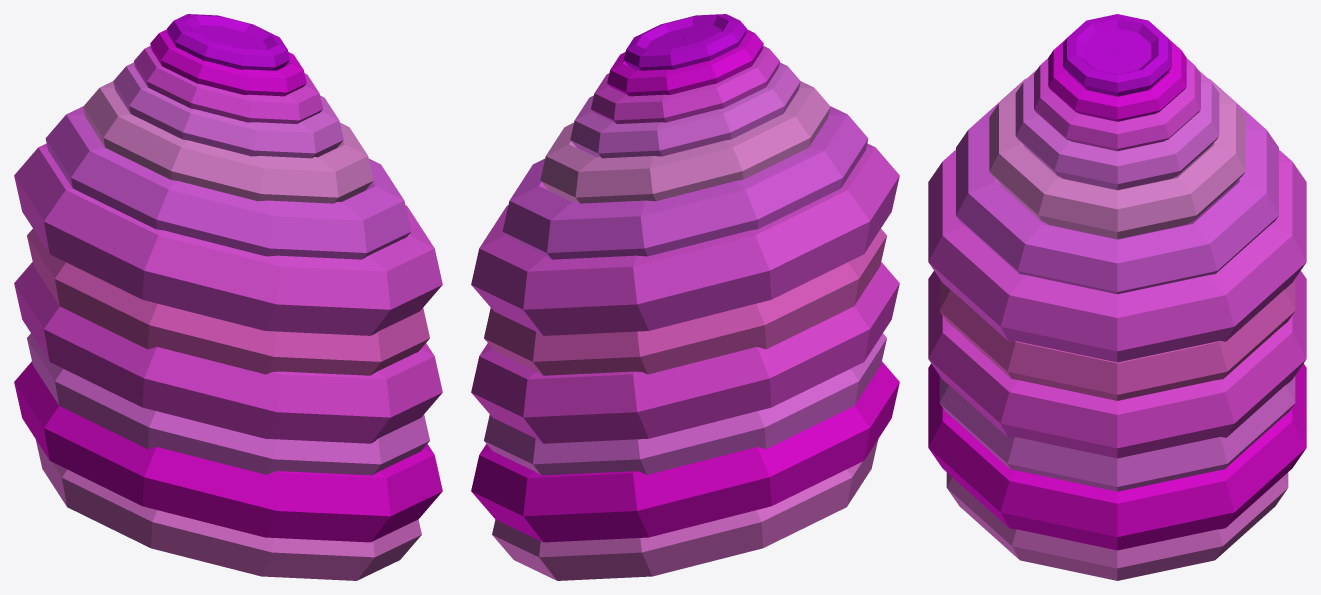
File: candyfloss.fbx
3 renders of one model, left to right at view 1: azimuth 30°, elevation 25°; view 2: azimuth 150°, elevation 25°; view 3: azimuth 270°, elevation 25°, orthographic. The views are drawn at different scales.
Visible parts, largest first — view 1: Torus.002; view 2: Torus.002; view 3: Torus.002.
Part boxes in pixels (<box>): Torus.002: <box>14,14,442,580</box>; Torus.002: <box>471,14,899,580</box>; Torus.002: <box>928,14,1306,580</box>.
Size of the model in its own units: 267 by 370 by 263.
